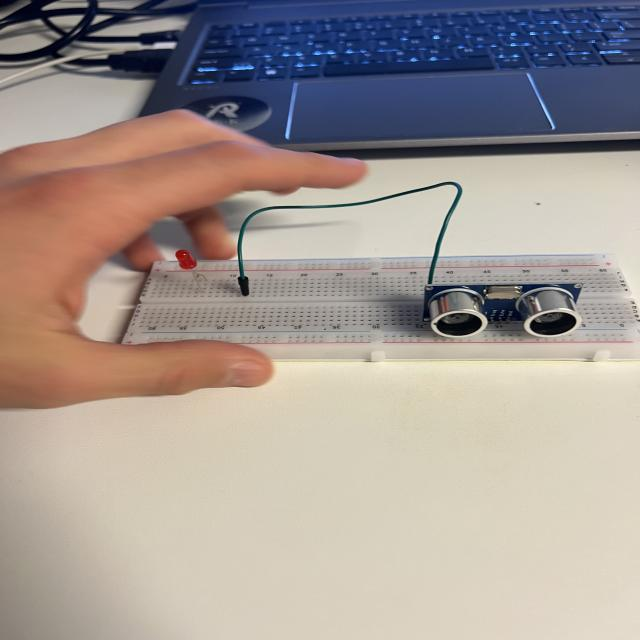BreadBoard: (119, 251, 639, 356)
REDLed: (176, 240, 205, 279)
UltrasoneSensor: (415, 279, 594, 339)
